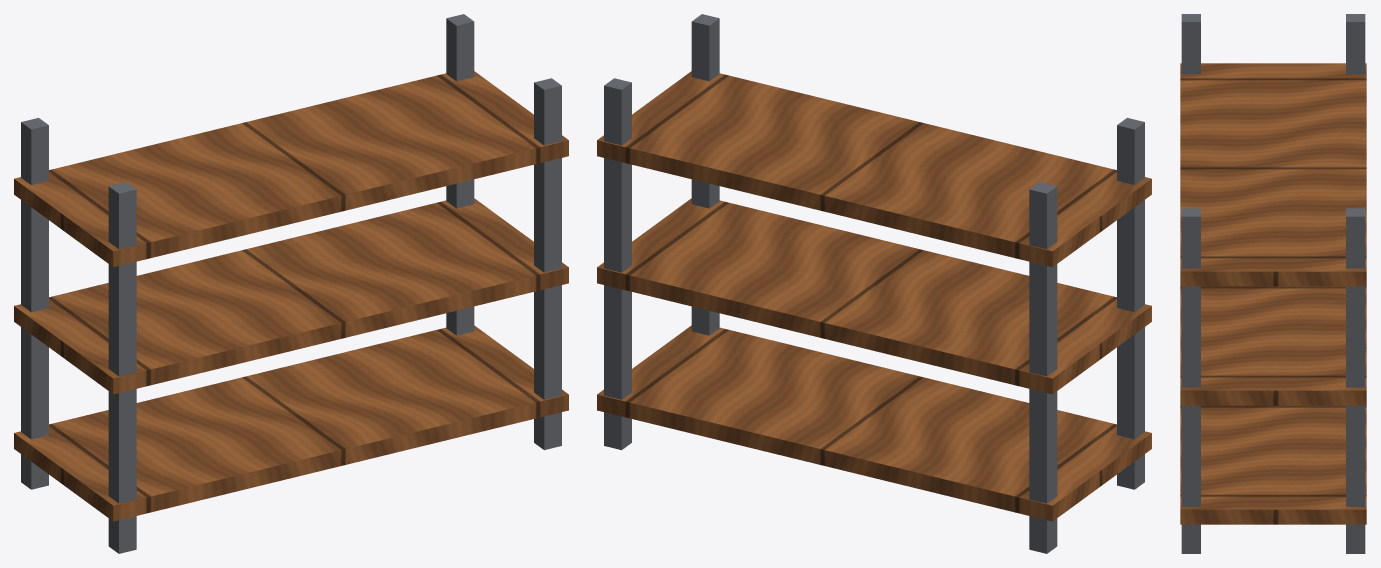
The model's file is Prop_ShoeRack.glb.
3 renders of one model, left to right at view 1: azimuth 30°, elevation 25°; view 2: azimuth 150°, elevation 25°; view 3: azimuth 270°, elevation 25°, orthographic. The views are drawn at different scales.
Parts seen in each view (by area): view 1: Shelf_0.56, Shelf_0.32, Shelf_0.08, Leg_-0.42_-0.15, Leg_0.42_-0.15, Leg_-0.42_0.15, Leg_0.42_0.15; view 2: Shelf_0.56, Shelf_0.32, Shelf_0.08, Leg_-0.42_0.15, Leg_0.42_0.15, Leg_-0.42_-0.15, Leg_0.42_-0.15; view 3: Shelf_0.56, Shelf_0.32, Shelf_0.08, Leg_0.42_0.15, Leg_0.42_-0.15, Leg_-0.42_0.15, Leg_-0.42_-0.15.
Boxes of the visible parts, <box> form: Shelf_0.56: <box>14,71,568,267</box>; Shelf_0.32: <box>14,198,568,394</box>; Shelf_0.08: <box>14,325,568,521</box>; Leg_-0.42_-0.15: <box>108,182,136,553</box>; Leg_0.42_-0.15: <box>534,78,561,450</box>; Leg_-0.42_0.15: <box>21,117,48,489</box>; Leg_0.42_0.15: <box>446,14,474,335</box>; Shelf_0.56: <box>597,71,1151,267</box>; Shelf_0.32: <box>597,198,1151,394</box>; Shelf_0.08: <box>597,325,1151,521</box>; Leg_-0.42_0.15: <box>1029,182,1057,553</box>; Leg_0.42_0.15: <box>604,78,631,450</box>; Leg_-0.42_-0.15: <box>1117,117,1144,489</box>; Leg_0.42_-0.15: <box>691,14,719,335</box>; Shelf_0.56: <box>1180,63,1366,286</box>; Shelf_0.32: <box>1180,286,1366,405</box>; Shelf_0.08: <box>1180,405,1366,524</box>; Leg_0.42_0.15: <box>1346,208,1365,553</box>; Leg_0.42_-0.15: <box>1181,208,1200,553</box>; Leg_-0.42_0.15: <box>1346,14,1365,74</box>; Leg_-0.42_-0.15: <box>1181,14,1200,74</box>.
Bounding box in the file's own units: 0.9 × 0.68 × 0.34.
2 materials, 1 textured.
